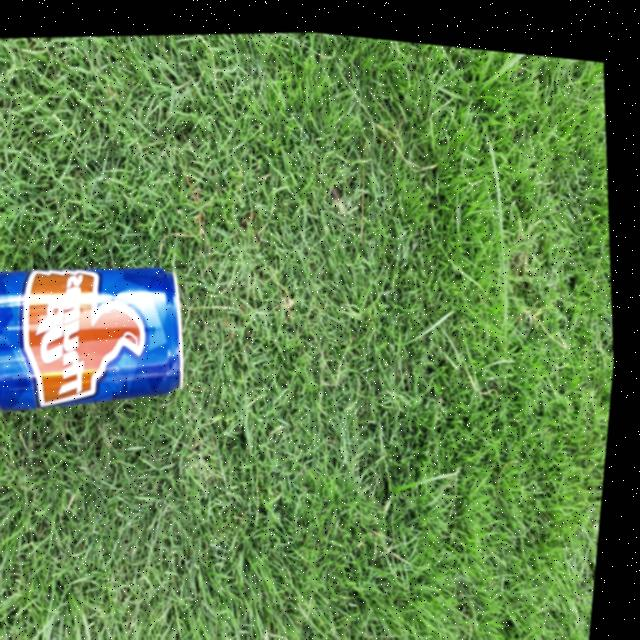Thums Up: (0, 224, 209, 448)
